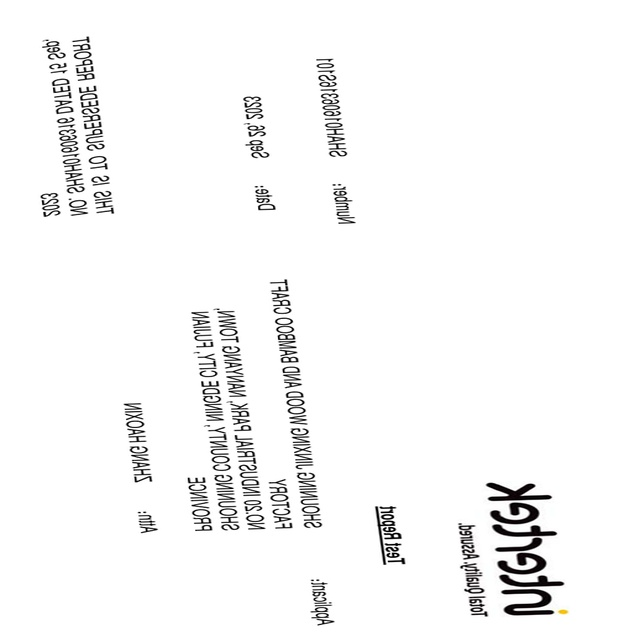intertek: (485, 469, 571, 623)
